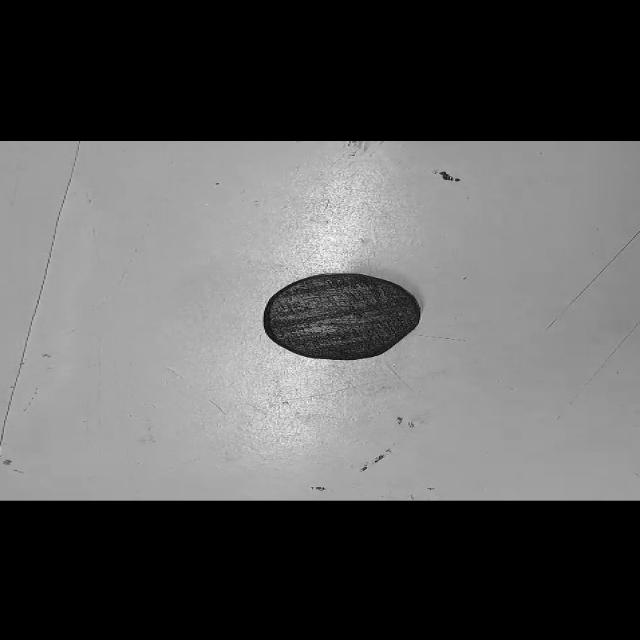bcircle: (261, 272, 425, 360)
